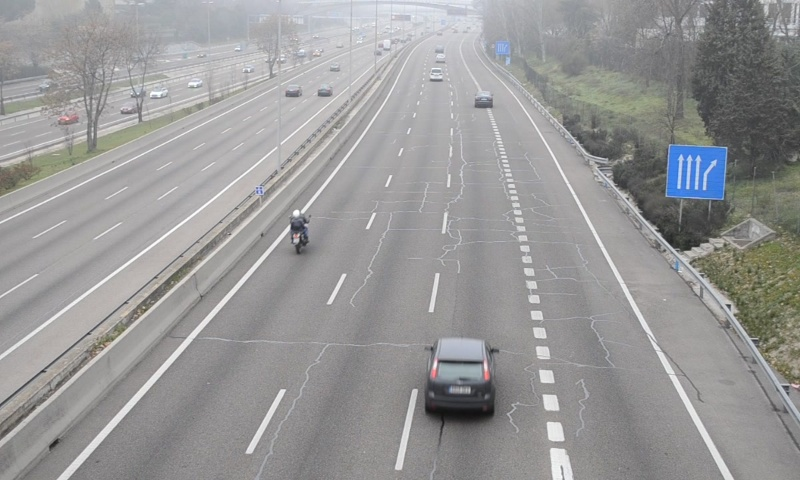car: (424, 338, 496, 415), (474, 91, 492, 108), (429, 68, 444, 82)
motorcycle: (286, 209, 310, 258)
